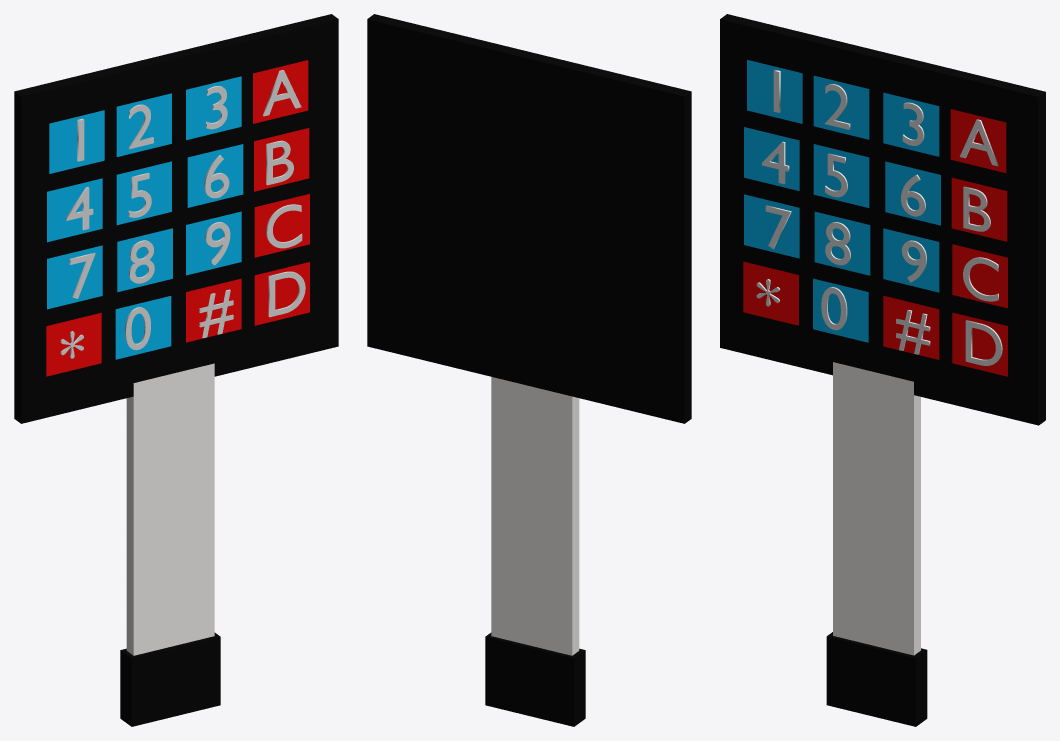
The model's file is keybad.fbx.
The picture shows the model from 3 angles, left to right: view 1: azimuth 30°, elevation 25°; view 2: azimuth 150°, elevation 25°; view 3: azimuth 330°, elevation 25°; orthographic projection.
Visible parts, largest first — view 1: Cube, Cube.002, Cube.001, Plane.015, Plane, Plane.008, Text.001, Plane.002, Plane.006, Plane.005, Plane.001, Plane.007 (+11 smaller); view 2: Cube, Cube.002, Cube.001; view 3: Cube, Cube.002, Cube.001, Plane.015, Plane, Plane.008, Plane.001, Plane.002, Plane.006, Plane.010, Plane.007, Text.001 (+11 smaller).
Boxes of the visible parts, x1,y1,x2,y2 form: Cube: [14, 14, 338, 423]; Cube.002: [126, 363, 214, 655]; Cube.001: [120, 632, 220, 726]; Plane.015: [46, 313, 101, 376]; Plane: [49, 110, 104, 173]; Plane.008: [47, 245, 102, 309]; Text.001: [66, 140, 293, 230]; Plane.002: [186, 76, 241, 140]; Plane.006: [116, 161, 171, 225]; Plane.005: [187, 144, 243, 207]; Plane.001: [116, 93, 171, 156]; Plane.007: [47, 178, 102, 242]; Cube: [367, 14, 691, 423]; Cube.002: [491, 377, 579, 655]; Cube.001: [485, 632, 585, 726]; Cube: [720, 14, 1045, 425]; Cube.002: [833, 362, 920, 655]; Cube.001: [826, 632, 927, 726]; Plane.015: [743, 261, 798, 325]; Plane: [747, 60, 802, 123]; Plane.008: [744, 194, 799, 258]; Plane.001: [813, 75, 869, 139]; Plane.002: [883, 92, 939, 156]; Plane.006: [813, 144, 869, 207]; Plane.010: [883, 228, 939, 292]; Plane.007: [744, 127, 799, 190]; Text.001: [762, 141, 990, 231].
Bounding box in the file's own units: 292 × 575 × 18.1.
